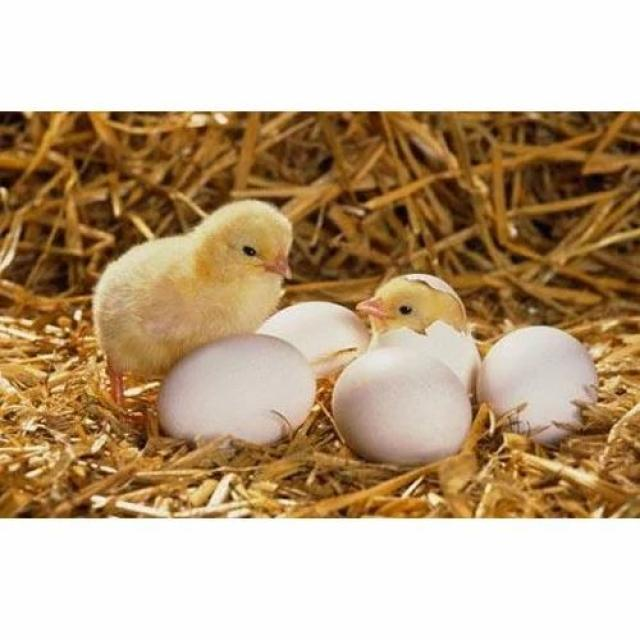Egg: (160, 275, 596, 464)
